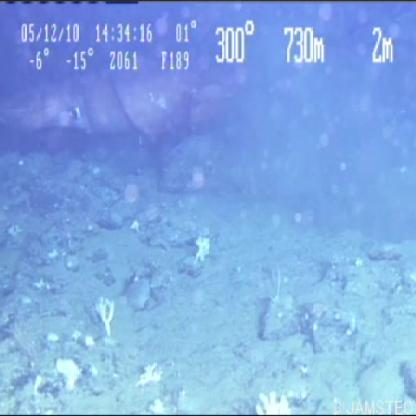Bio: (1, 65, 261, 144)
